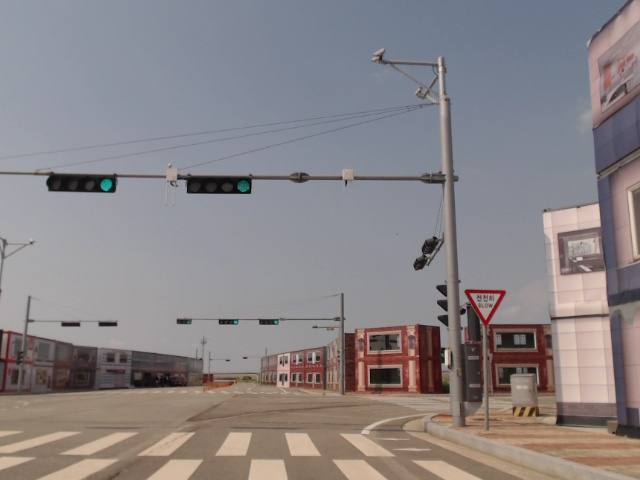straight_green_4: (47, 171, 117, 194), (186, 176, 253, 194), (259, 318, 281, 326), (218, 317, 240, 324)
